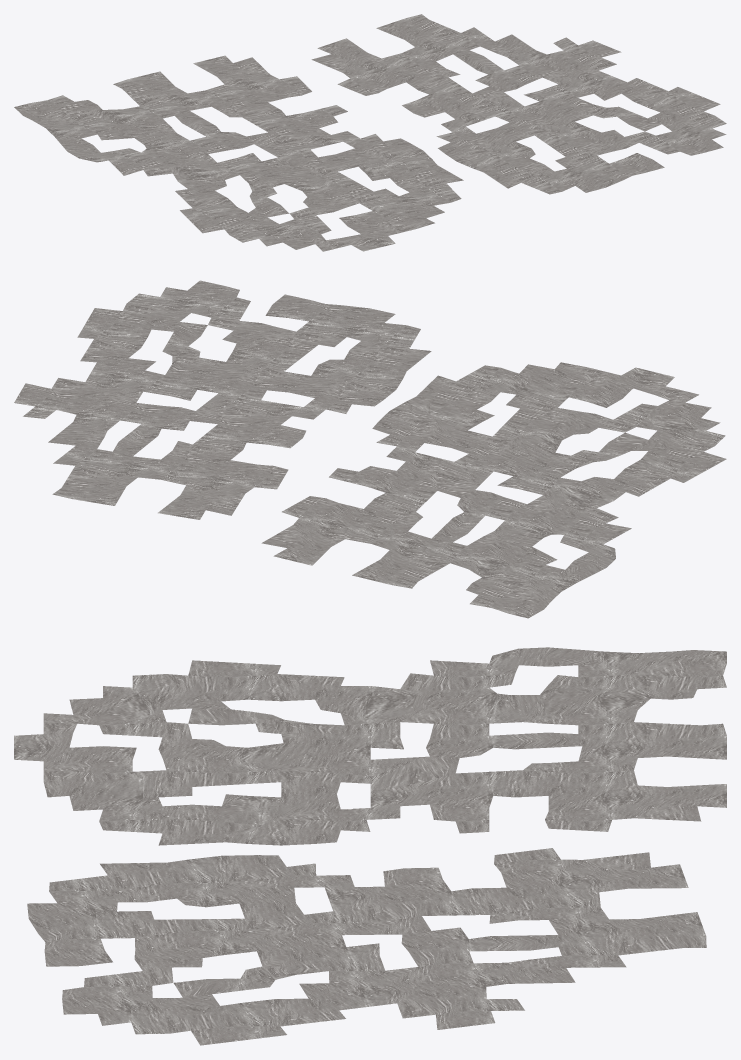
The picture shows the model from 3 angles, top to bottom: view 1: azimuth 30°, elevation 25°; view 2: azimuth 150°, elevation 25°; view 3: azimuth 270°, elevation 25°; orthographic projection. The views are drawn at different scales.
Visible parts, largest first — view 1: mesh00; view 2: mesh00; view 3: mesh00.
Part boxes in pixels (x1,y1,x2,y2): mesh00: [14, 14, 726, 251]; mesh00: [14, 280, 726, 618]; mesh00: [14, 647, 726, 1045].
Bounding box in the file's own units: 6891 × 0 × 5214.
